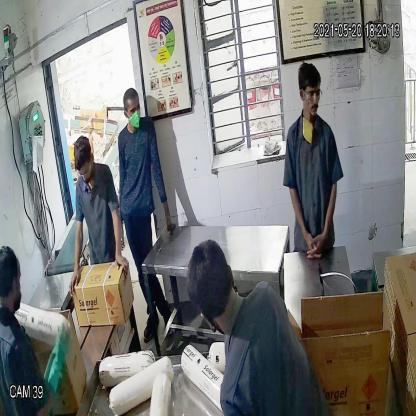goggles: (298, 88, 323, 104)
no_goggles: (123, 101, 143, 116)
